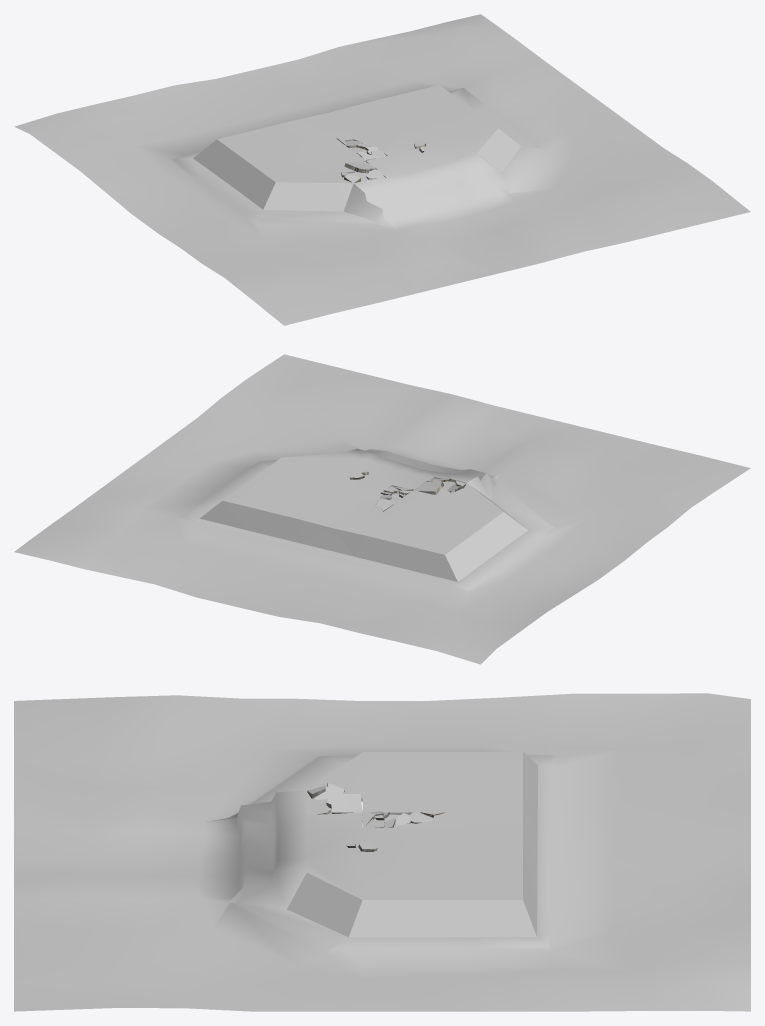
File: Ground.FBX
The picture shows the model from 3 angles, top to bottom: view 1: azimuth 30°, elevation 25°; view 2: azimuth 150°, elevation 25°; view 3: azimuth 270°, elevation 25°; orthographic projection. The views are drawn at different scales.
Visible parts, largest first — view 1: Ground; view 2: Ground; view 3: Ground.
Boxes of the visible parts, <box> form: Ground: <box>14,14,750,325</box>; Ground: <box>14,354,750,664</box>; Ground: <box>14,693,750,1011</box>.
Bounding box in the file's own units: 136 × 136 × 7.74.
